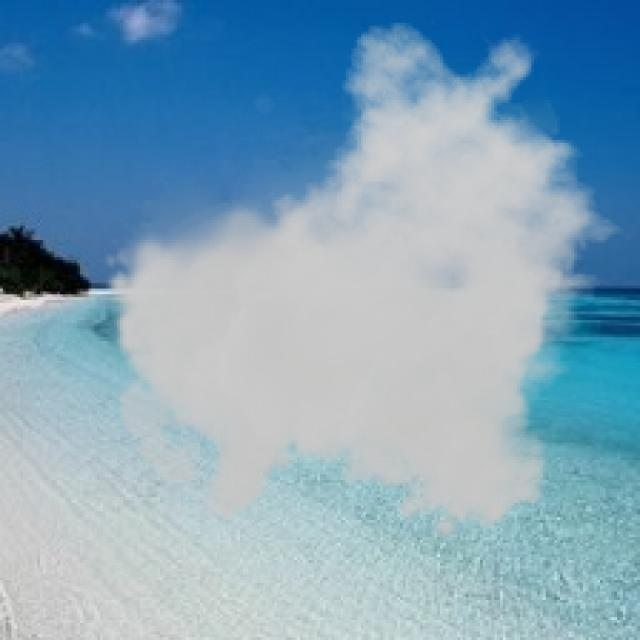smoke: (103, 20, 637, 546)
